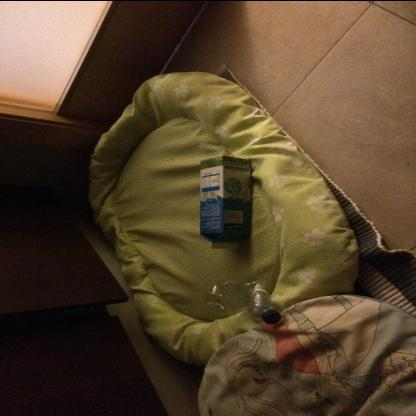karton: (200, 155, 254, 250)
plastik: (206, 281, 284, 325)
